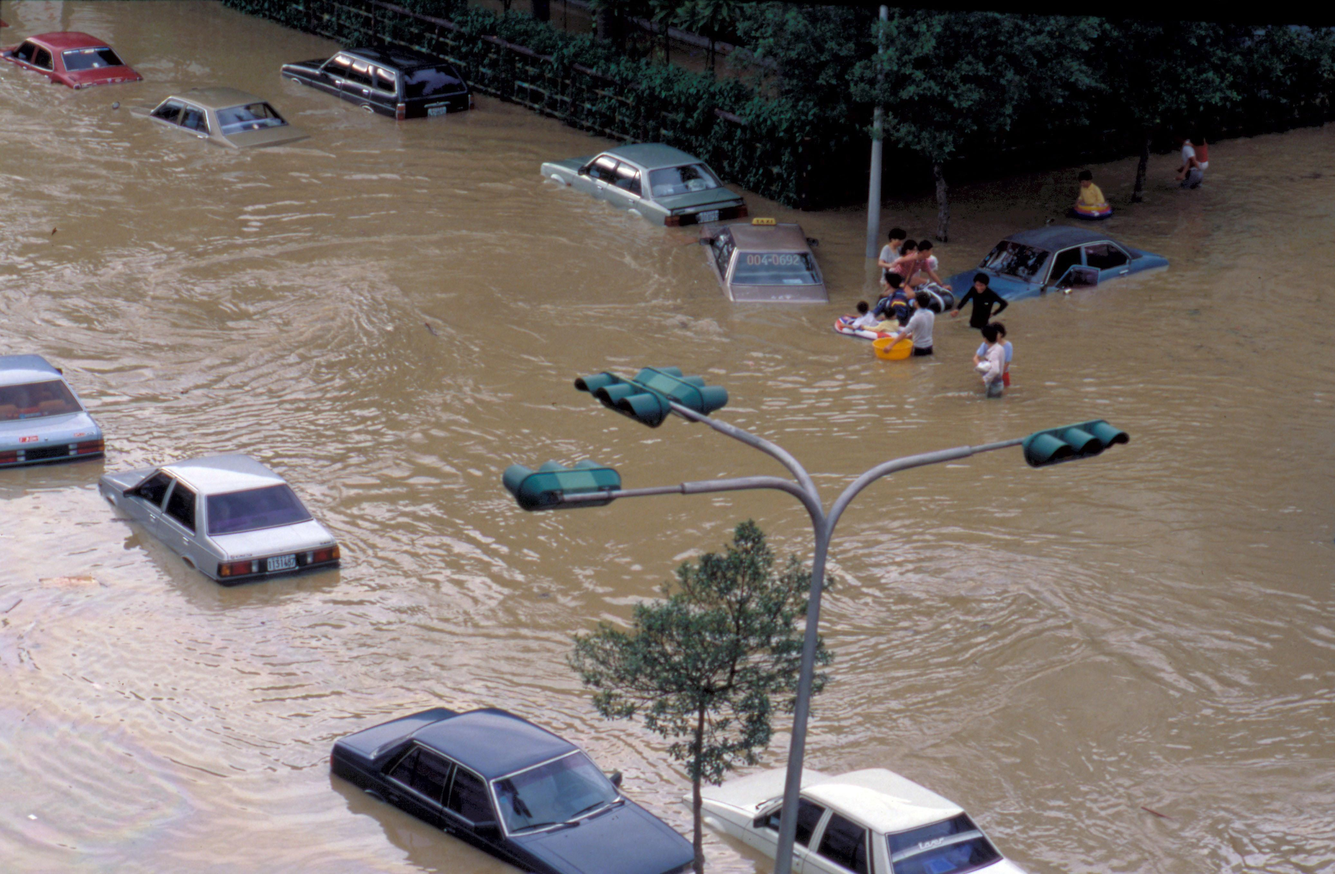water: (0, 39, 1335, 874), (0, 0, 338, 94)
